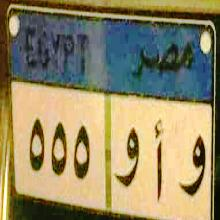5: (48, 115, 69, 182), (71, 126, 93, 187), (27, 116, 47, 178)
alif: (149, 108, 165, 207)
waw: (175, 122, 206, 207), (113, 118, 140, 200)
